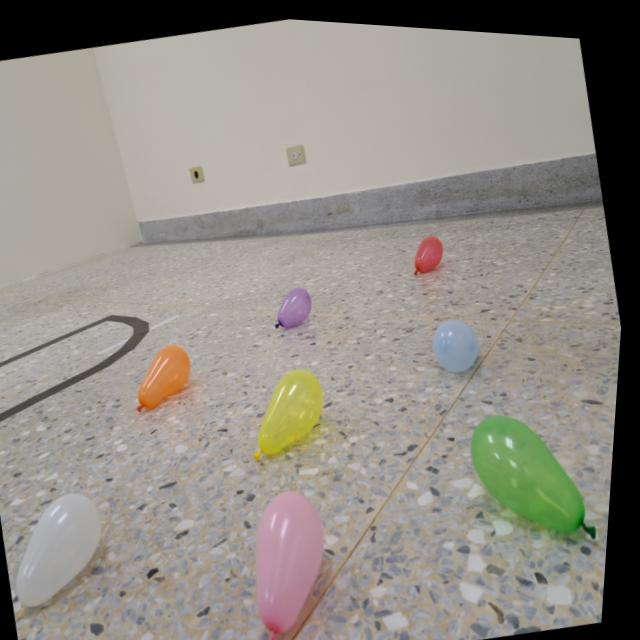other: (463, 387, 612, 556), (240, 476, 356, 640), (0, 480, 129, 626), (242, 355, 342, 463), (127, 336, 204, 415), (430, 305, 490, 370), (272, 280, 321, 329)
red: (410, 224, 451, 272)
